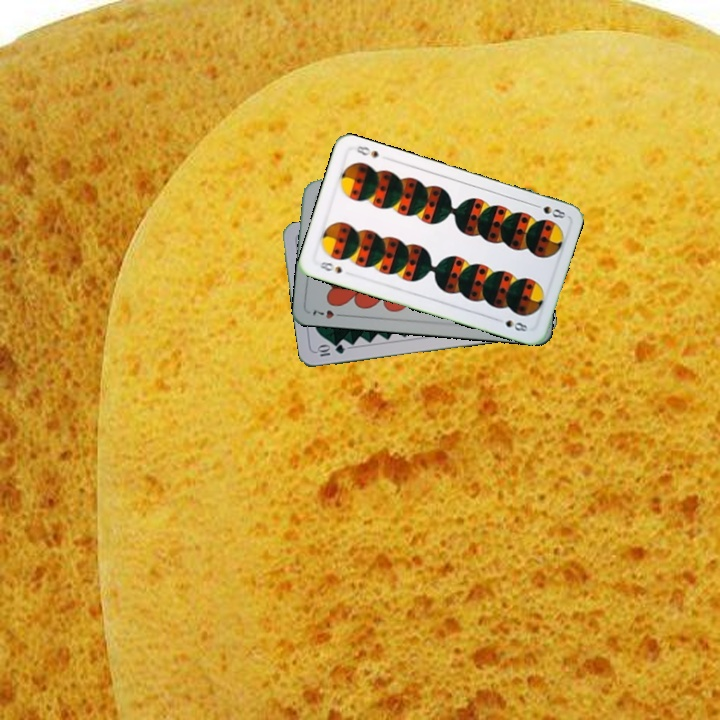G10: (313, 341, 347, 359)
H7: (309, 306, 348, 321)
S8: (528, 200, 568, 221), (315, 257, 345, 276)
